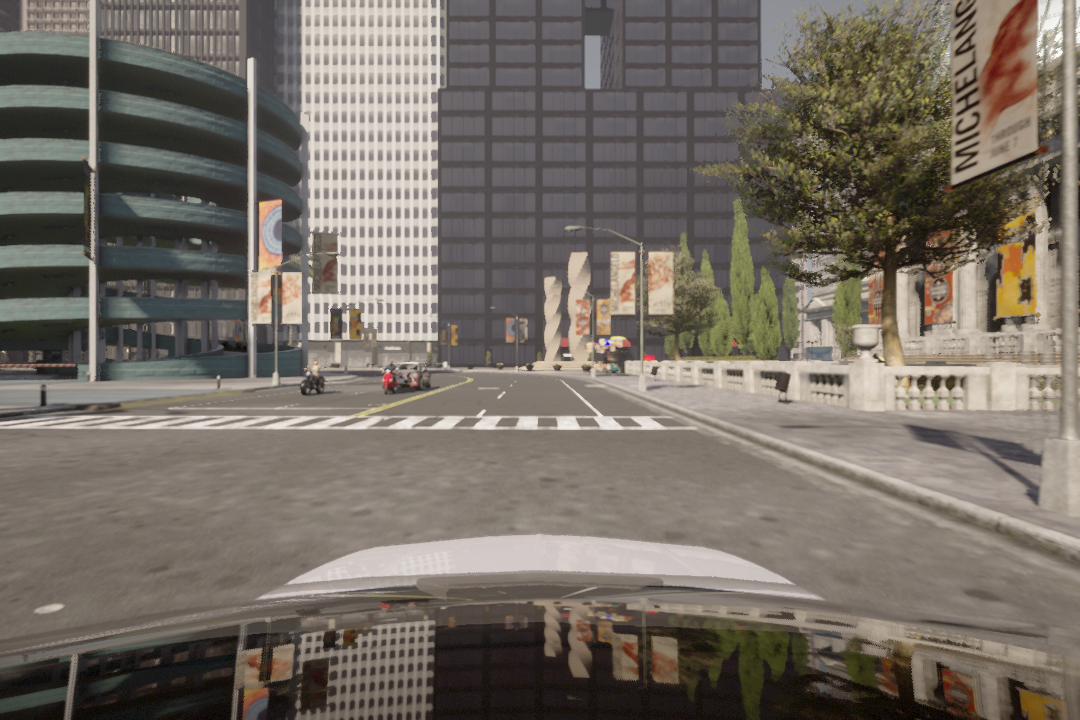walkside: (1, 410, 697, 431)
